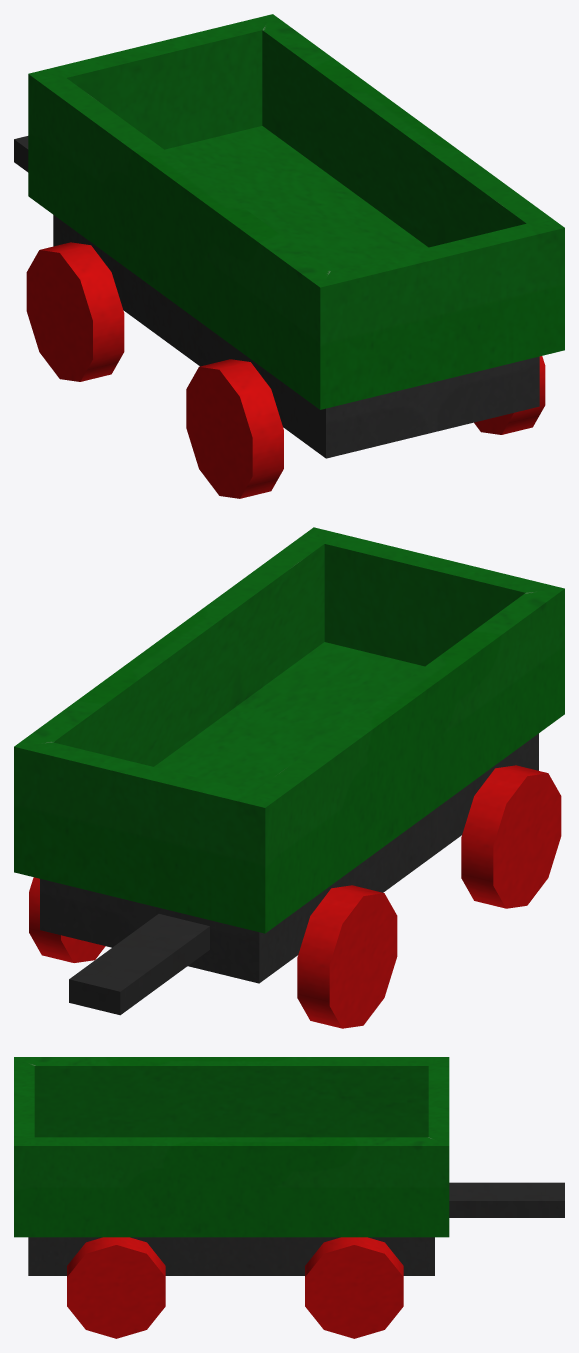
The model's file is train_wagon.fbx.
The picture shows the model from 3 angles, top to bottom: view 1: azimuth 30°, elevation 25°; view 2: azimuth 150°, elevation 25°; view 3: azimuth 270°, elevation 25°; orthographic projection. The views are drawn at different scales.
Visible parts, largest first — view 1: polySurface9; view 2: polySurface9; view 3: polySurface9.
Boxes of the visible parts, left/top/right/bottom form: polySurface9: left=14, top=14, right=564, bottom=498; polySurface9: left=14, top=527, right=564, bottom=1028; polySurface9: left=14, top=1057, right=564, bottom=1338.
Size of the model in its own units: 9.36 by 7.66 by 20.46.
